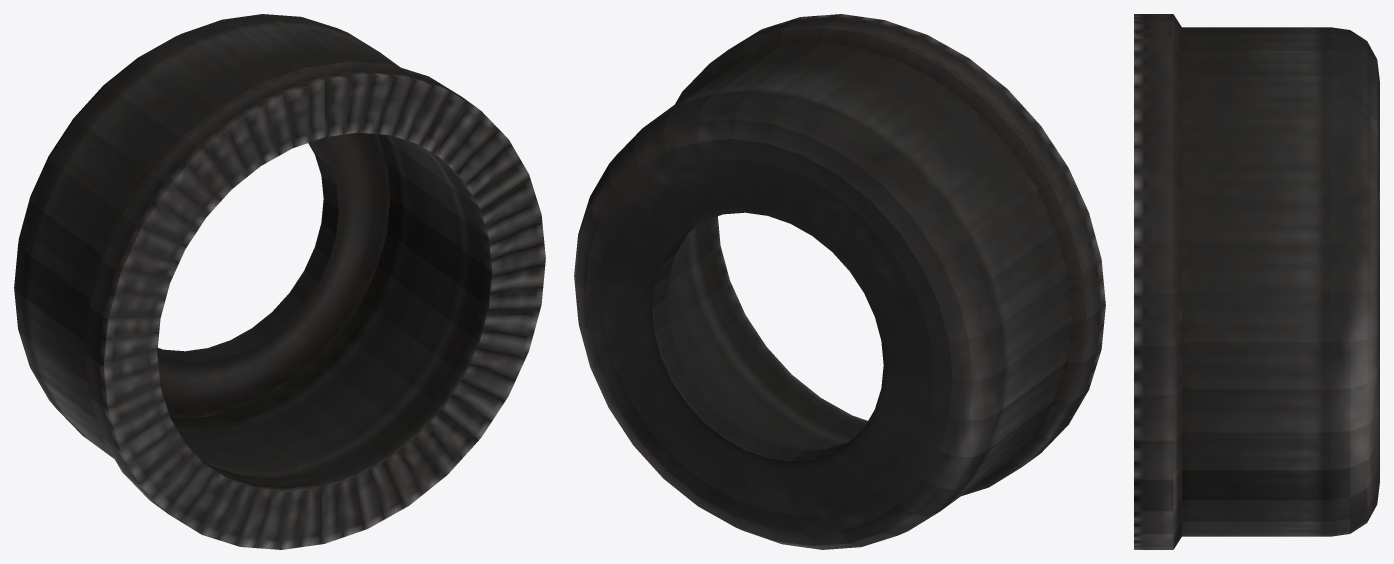
3 views of the same model, side by side, from view 1: azimuth 30°, elevation 25°; view 2: azimuth 150°, elevation 25°; view 3: azimuth 270°, elevation 25° (orthographic). The views are drawn at different scales.
Visible parts, largest first — view 1: TW_668670e3fb75ee4a5e02eb16_PZ_Import; view 2: TW_668670e3fb75ee4a5e02eb16_PZ_Import; view 3: TW_668670e3fb75ee4a5e02eb16_PZ_Import.
Part boxes in pixels (left/top/right/bottom): TW_668670e3fb75ee4a5e02eb16_PZ_Import: left=14, top=14, right=545, bottom=549; TW_668670e3fb75ee4a5e02eb16_PZ_Import: left=574, top=14, right=1105, bottom=549; TW_668670e3fb75ee4a5e02eb16_PZ_Import: left=1134, top=14, right=1379, bottom=549.
Size of the model in its own units: 0.0172 by 0.00789 by 0.0172.
Materials: 1 (1 with a texture image).
